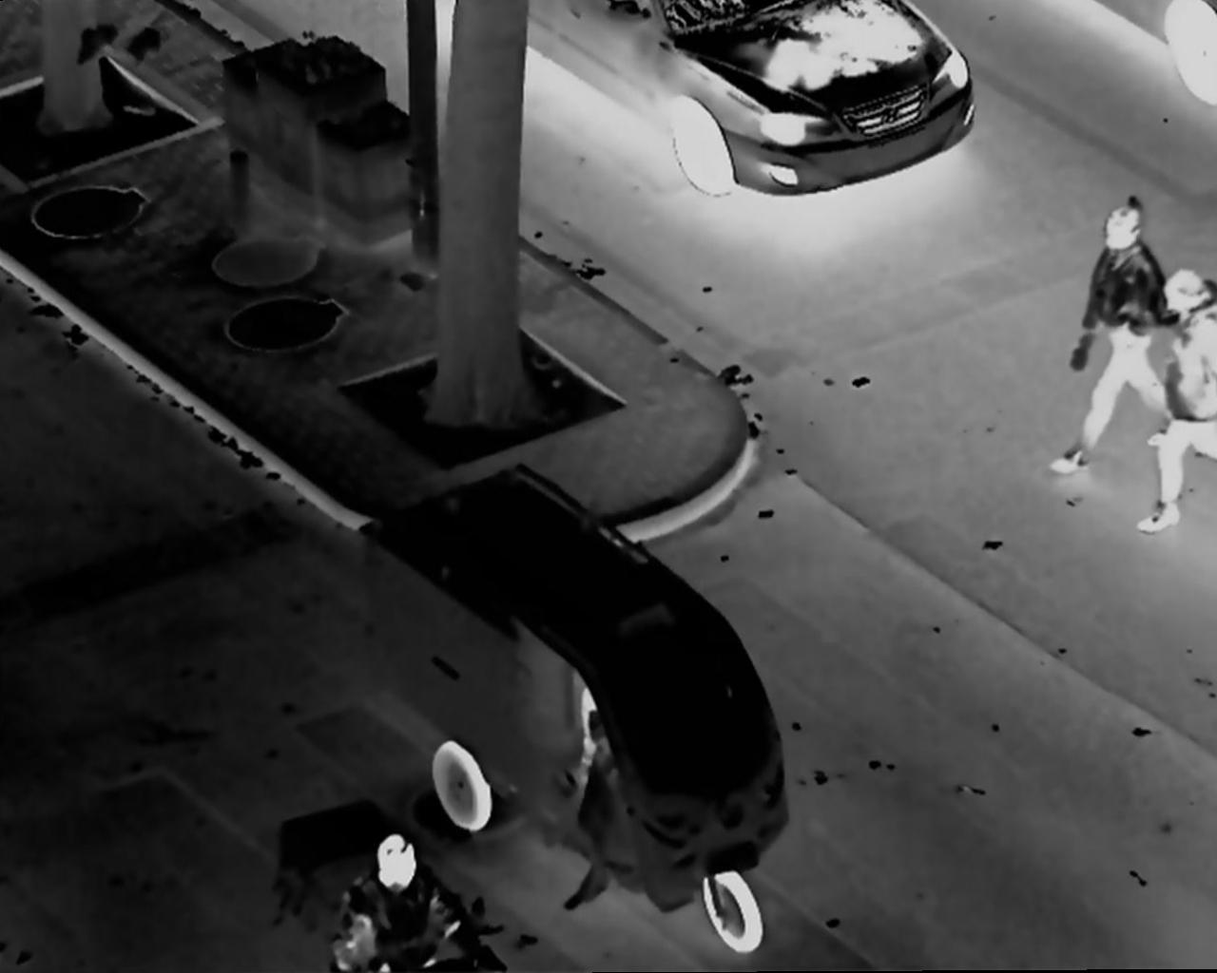person: (1058, 195, 1183, 484), (1139, 273, 1213, 547), (333, 830, 462, 973)
